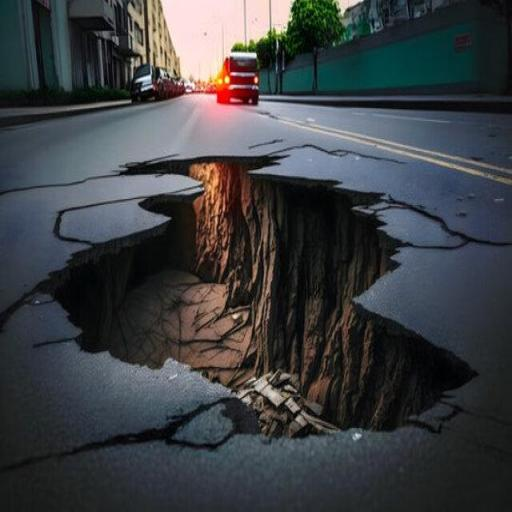Concentric_Crack: (53, 157, 475, 435)
